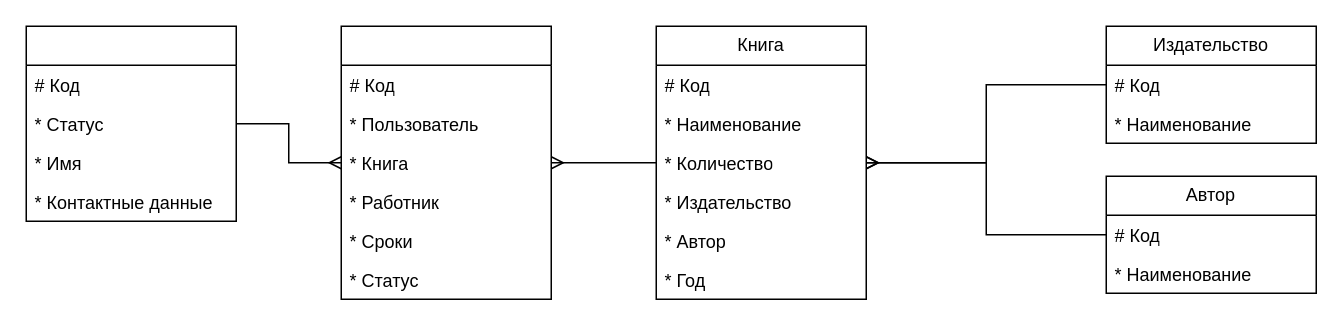
The diagram is 1343 pixels wide and 330 high, and some of its shapes have lost their labels. The shapes that lost their labels are listed below. From the top down, each one's box as (x1, y1, x2, y2) in pixels, then its label:
(25, 25, 236, 221): Пользователь
(340, 25, 551, 299): Заказ
